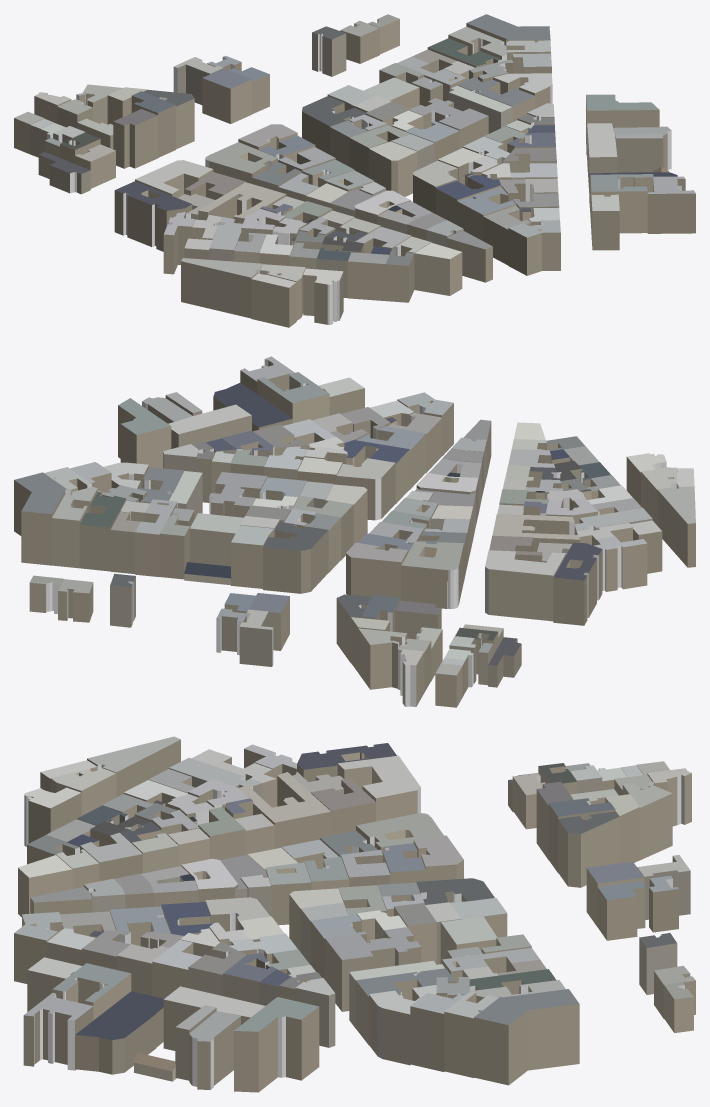
3 renders of one model, top to bottom at view 1: azimuth 30°, elevation 25°; view 2: azimuth 150°, elevation 25°; view 3: azimuth 270°, elevation 25°, orthographic. The views are drawn at different scales.
Visible parts, largest first — view 1: tuile; view 2: tuile; view 3: tuile.
Boxes of the visible parts, <box> form: tuile: <box>14,14,695,327</box>; tuile: <box>14,356,695,707</box>; tuile: <box>14,736,695,1092</box>.
Bounding box in the file's own units: 277 × 30.05 × 258.
